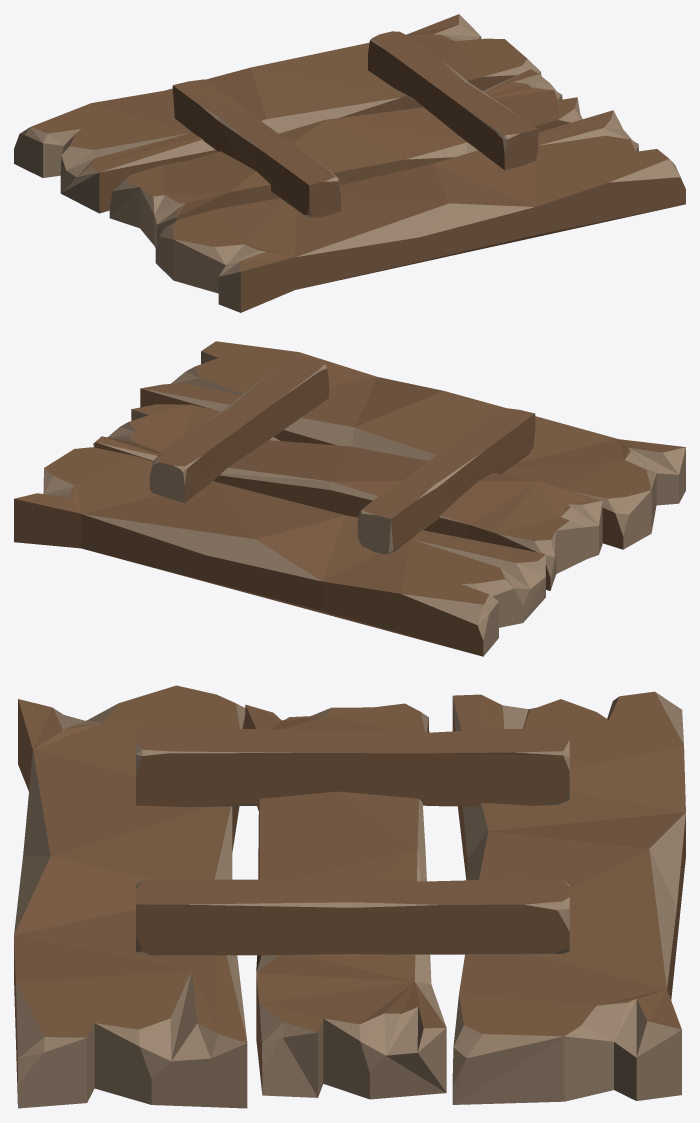
File: Wooden_box_B_03.FBX
3 renders of one model, top to bottom at view 1: azimuth 30°, elevation 25°; view 2: azimuth 150°, elevation 25°; view 3: azimuth 270°, elevation 25°, orthographic. The views are drawn at different scales.
Parts seen in each view (by area): view 1: Wooden_box_B_03; view 2: Wooden_box_B_03; view 3: Wooden_box_B_03.
Part boxes in pixels (<box>): Wooden_box_B_03: <box>14,14,685,312</box>; Wooden_box_B_03: <box>14,341,685,656</box>; Wooden_box_B_03: <box>14,685,685,1108</box>.
Bounding box in the file's own units: 1.39 × 0.2153 × 1.11.
